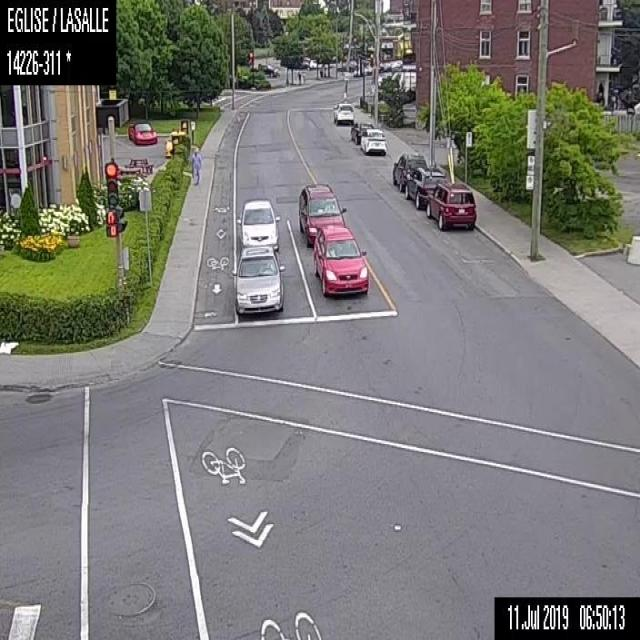pedestrian: (190, 147, 203, 184)
vehicle: (297, 181, 369, 299), (231, 243, 286, 317), (425, 178, 477, 232), (235, 195, 280, 252), (403, 163, 444, 209), (389, 147, 423, 190), (126, 119, 157, 144), (360, 128, 388, 155), (348, 117, 373, 145), (331, 101, 353, 125), (257, 62, 279, 78)
